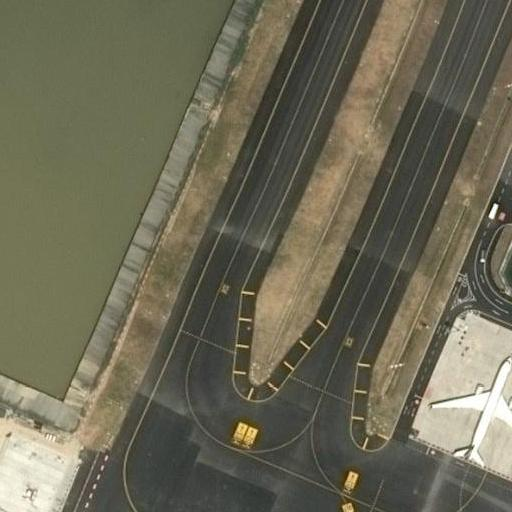Aircraft: (428, 350, 512, 467), (429, 356, 512, 467)
